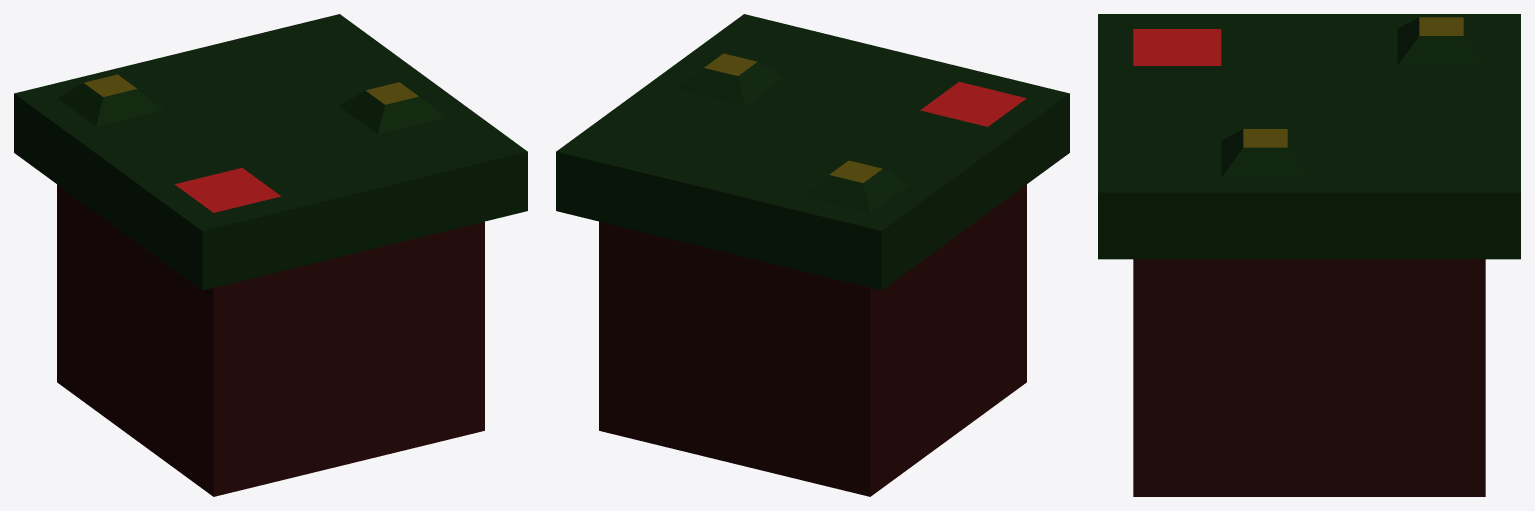
File: GroundBlock.fbx
3 views of the same model, side by side, from view 1: azimuth 30°, elevation 25°; view 2: azimuth 150°, elevation 25°; view 3: azimuth 270°, elevation 25° (orthographic). The views are drawn at different scales.
Parts seen in each view (by area): view 1: Box001; view 2: Box001; view 3: Box001.
Boxes of the visible parts, x1,y1,x2,y2 form: Box001: (14,14,527,496); Box001: (556,14,1069,496); Box001: (1098,14,1520,496).
Bounding box in the file's own units: 0.3048 × 0.2706 × 0.3048.
